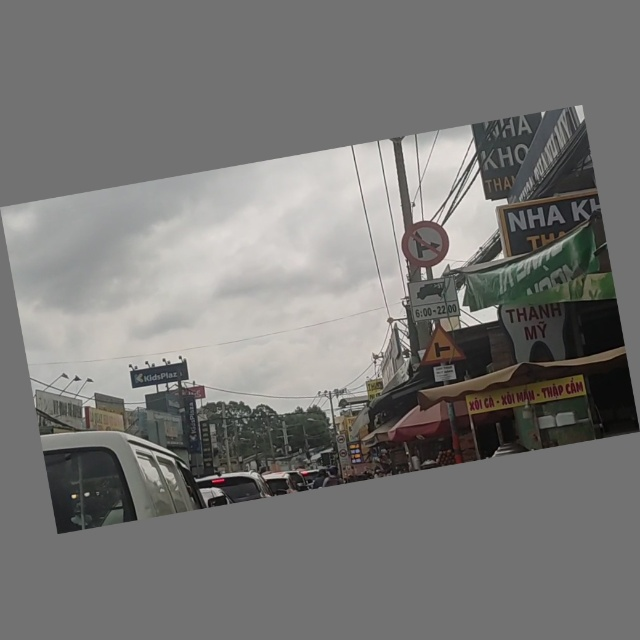P.139: (399, 219, 451, 272)
S.505a*Xe tai: (406, 276, 461, 321)
W.205b: (413, 321, 467, 367)
